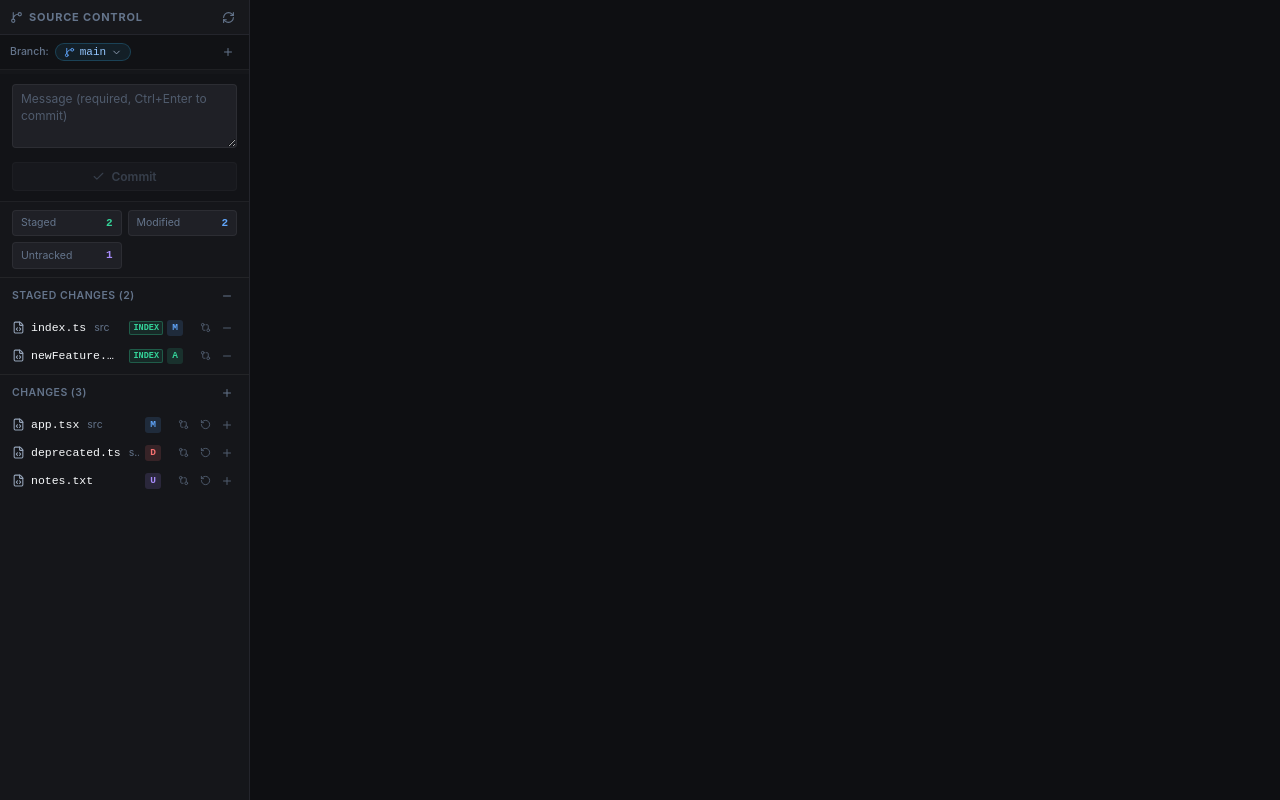
Test case: SourceControl Component Tests › Group 4: Discard Changes Modal › closes discard modal on Escape key press
Click the button named "Discard changes in src/app.tsx" at [205, 425], box x1=195 y1=415 x2=215 y2=435
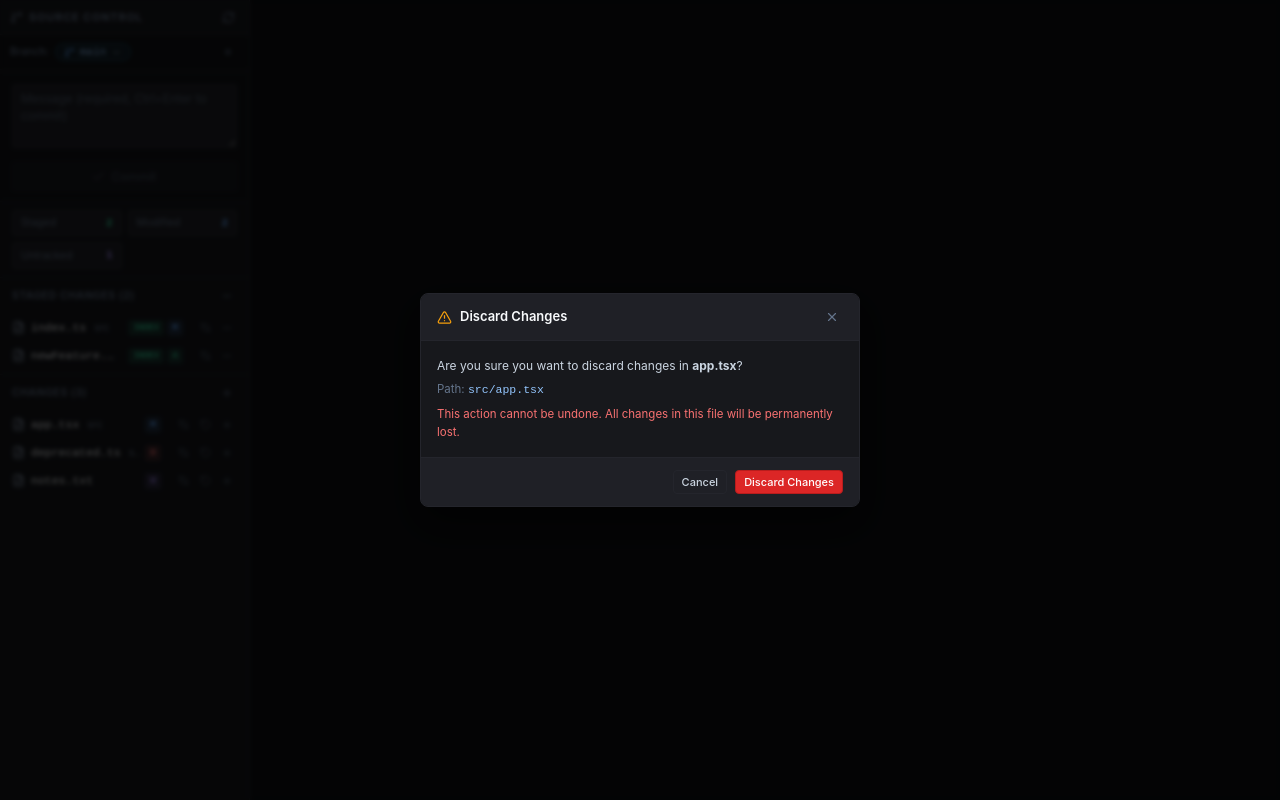
expect the dialog is shown: met, box x1=420 y1=293 x2=860 y2=507
Press Escape
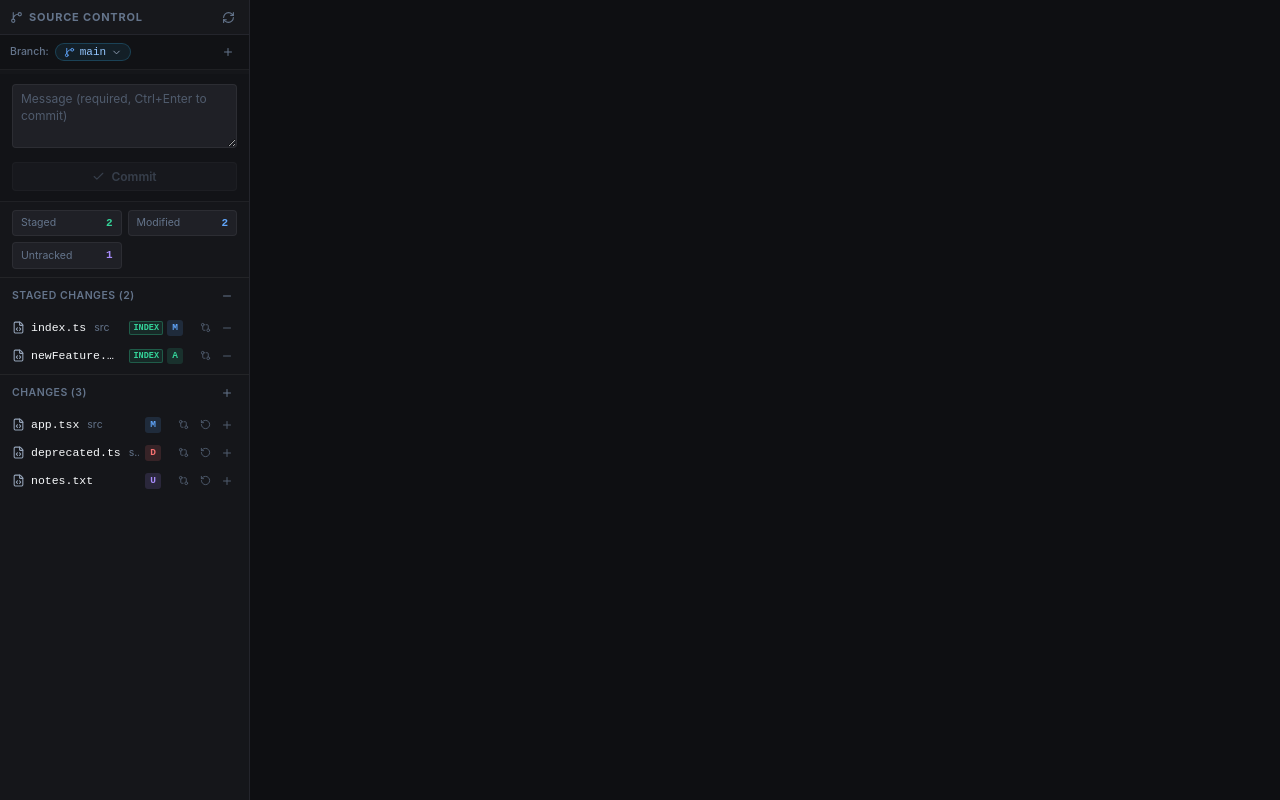
expect the dialog is gone: met
